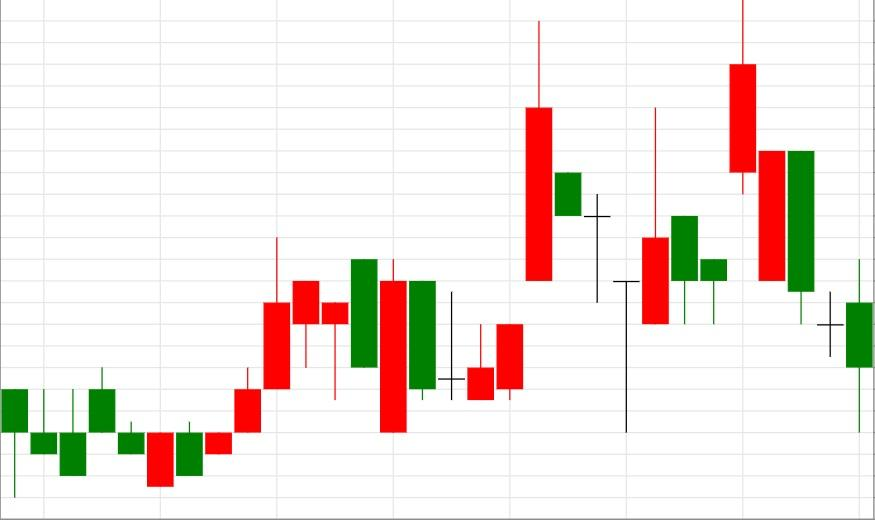hanging_man_fall: (147, 236, 350, 487), (612, 108, 727, 432)
